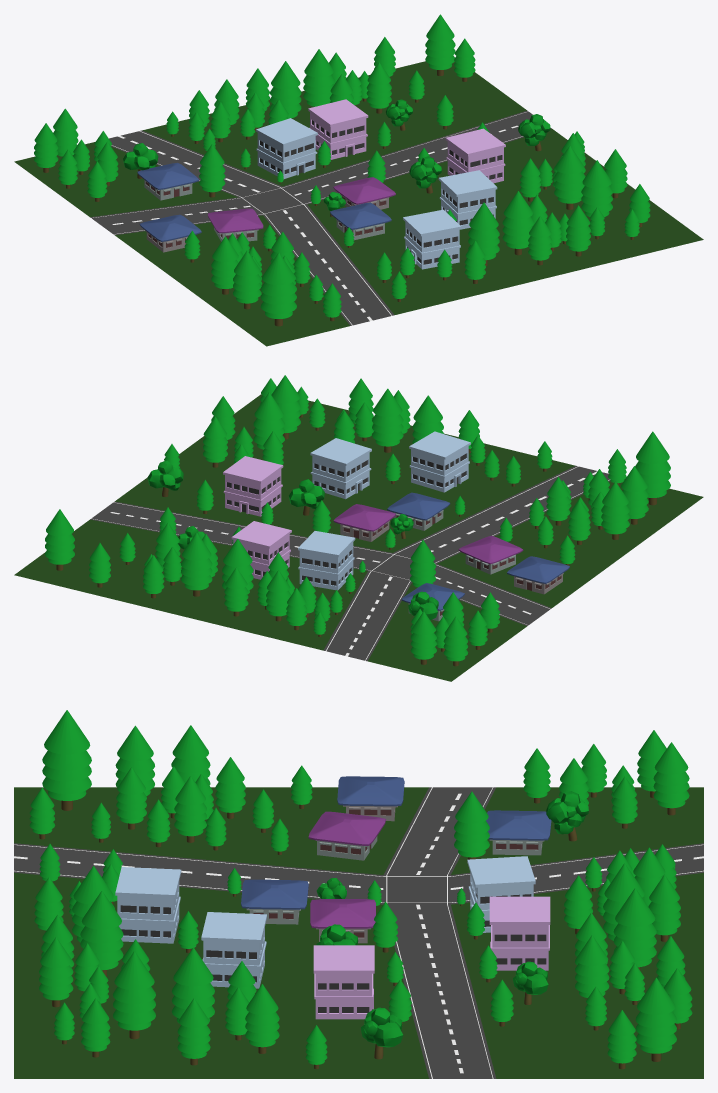
Rendered from map_lowpoly.glb.
3 views of the same model, one above another, from view 1: azimuth 30°, elevation 25°; view 2: azimuth 150°, elevation 25°; view 3: azimuth 270°, elevation 25° (orthographic). The views are drawn at different scales.
Parts seen in each view (by area): view 1: Object_2, Object_4, Object_11, Object_3, Object_14, Object_6, Object_5, Object_16, Object_13, Object_7, Object_19, Object_10 (+5 smaller); view 2: Object_2, Object_4, Object_11, Object_3, Object_14, Object_6, Object_5, Object_16, Object_13, Object_7, Object_19, Object_15 (+5 smaller); view 3: Object_2, Object_4, Object_11, Object_3, Object_6, Object_14, Object_5, Object_16, Object_13, Object_19, Object_7, Object_10 (+5 smaller).
Part boxes in pixels (bbox=[...]): Object_2: bbox=[14, 61, 703, 346]; Object_4: bbox=[34, 14, 649, 299]; Object_11: bbox=[90, 110, 551, 325]; Object_3: bbox=[34, 48, 650, 305]; Object_14: bbox=[256, 118, 497, 269]; Object_6: bbox=[34, 55, 650, 313]; Object_5: bbox=[36, 64, 588, 318]; Object_16: bbox=[308, 99, 505, 183]; Object_13: bbox=[137, 162, 391, 241]; Object_7: bbox=[166, 101, 639, 284]; Object_19: bbox=[208, 177, 395, 233]; Object_10: bbox=[91, 111, 528, 325]; Object_2: bbox=[14, 394, 703, 681]; Object_4: bbox=[45, 375, 670, 649]; Object_11: bbox=[90, 466, 610, 661]; Object_3: bbox=[45, 395, 670, 651]; Object_14: bbox=[298, 431, 470, 590]; Object_6: bbox=[45, 402, 670, 657]; Object_5: bbox=[48, 419, 666, 661]; Object_16: bbox=[223, 456, 291, 579]; Object_13: bbox=[387, 492, 569, 610]; Object_7: bbox=[159, 407, 629, 632]; Object_19: bbox=[333, 504, 523, 564]; Object_15: bbox=[227, 453, 466, 585]; Object_2: bbox=[14, 787, 703, 1078]; Object_4: bbox=[30, 710, 692, 1045]; Object_11: bbox=[14, 787, 703, 1078]; Object_3: bbox=[29, 757, 692, 1051]; Object_6: bbox=[29, 775, 692, 1064]; Object_14: bbox=[115, 856, 535, 988]; Object_5: bbox=[29, 776, 688, 1063]; Object_16: bbox=[313, 896, 550, 1019]; Object_13: bbox=[241, 776, 551, 909]; Object_19: bbox=[308, 811, 385, 928]; Object_7: bbox=[39, 778, 680, 1037]; Object_10: bbox=[14, 787, 703, 1078].
Size of the model in its own units: 20.56 by 3.28 by 20.56.
